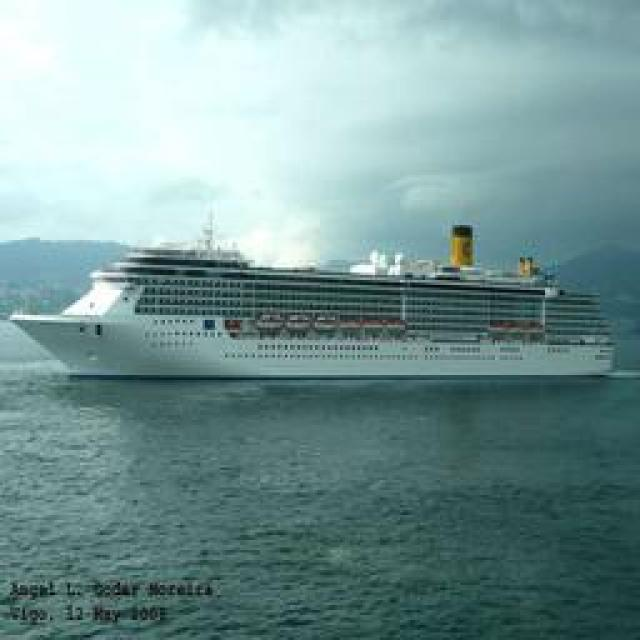CIV_Ship: (12, 240, 608, 385)
